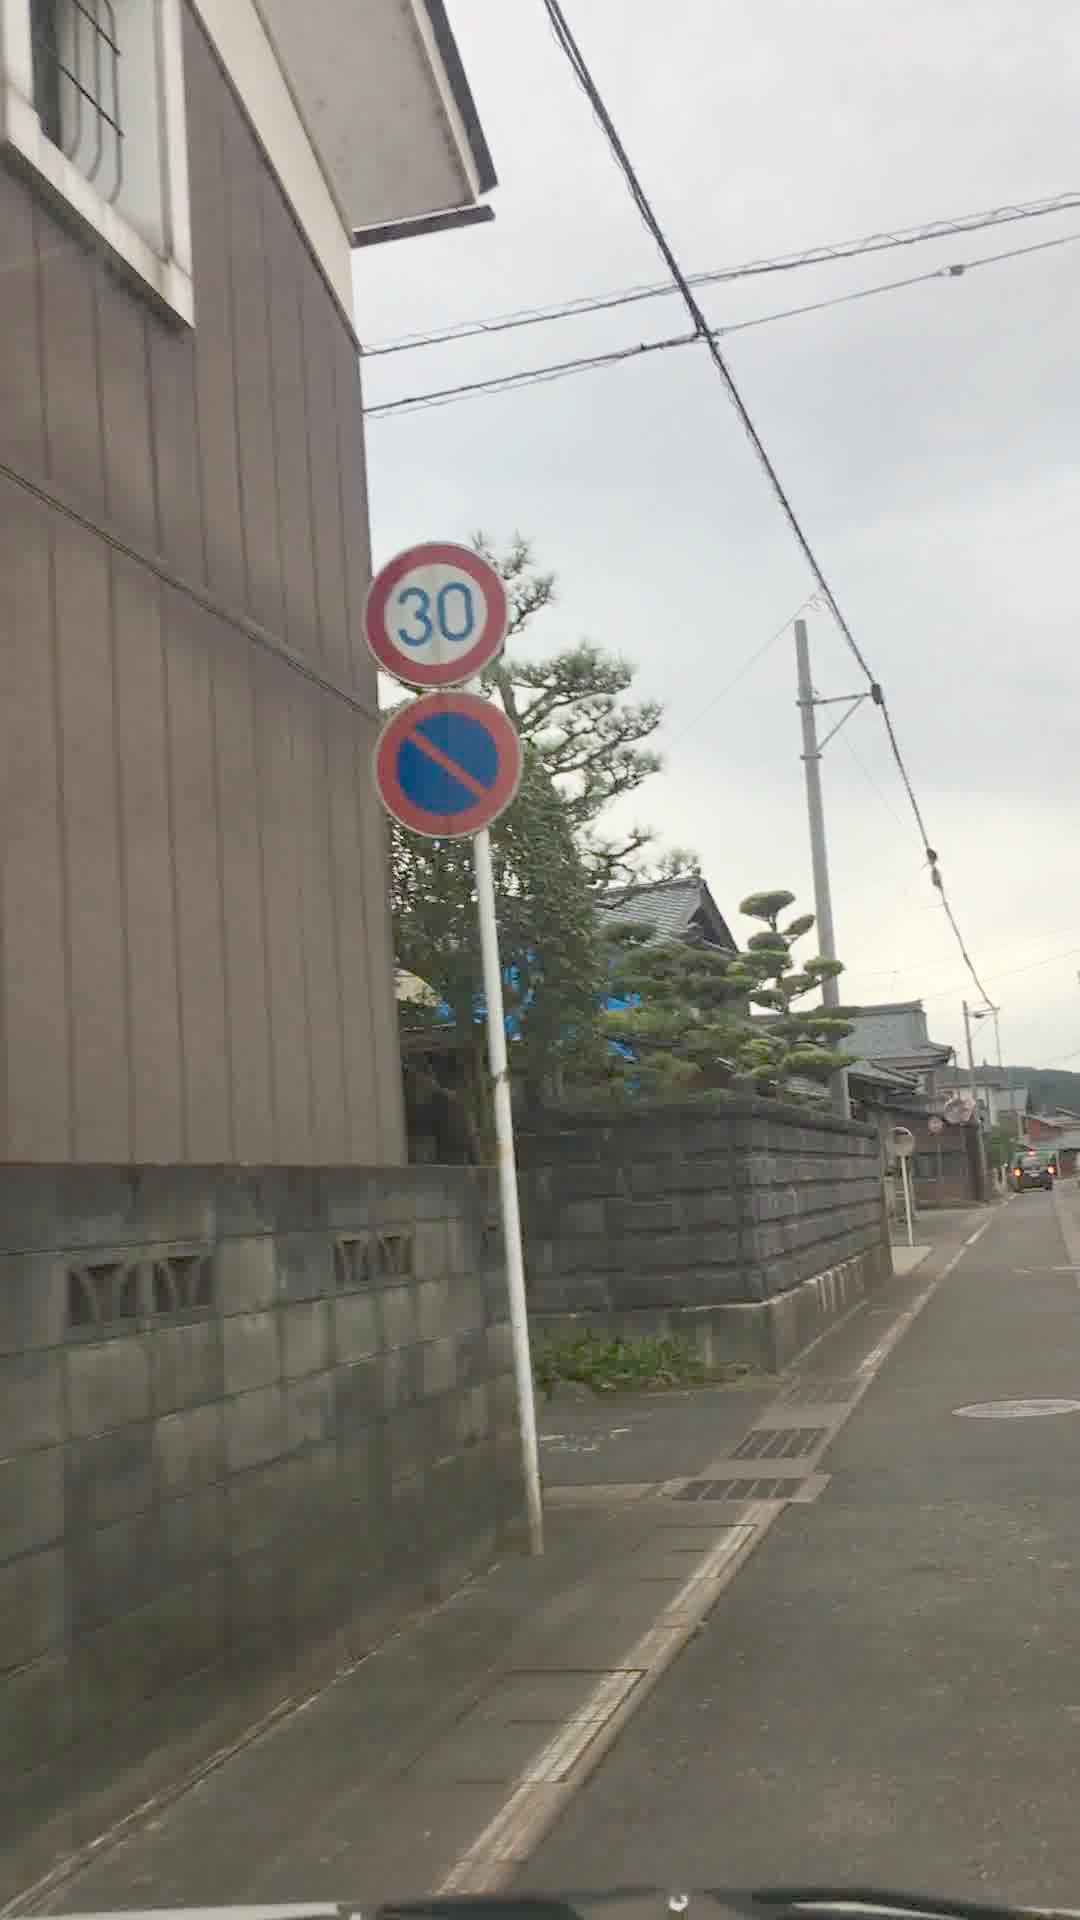Prohibition_sign: (372, 705, 527, 851)
Speed_sign: (357, 534, 526, 698)
